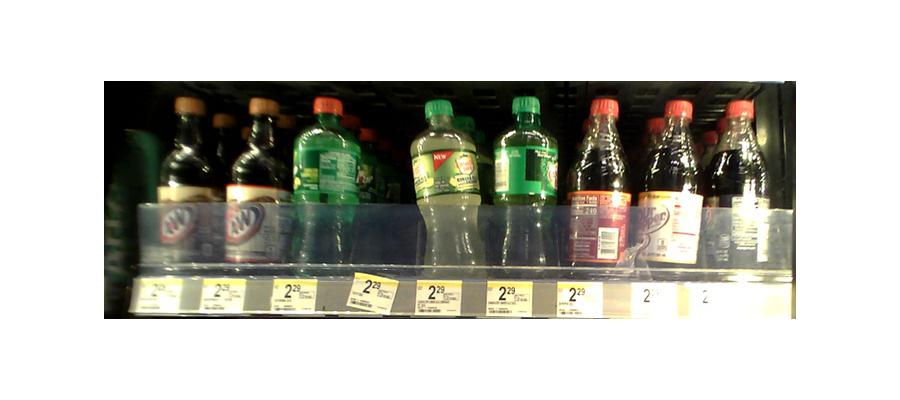bottle: (412, 99, 485, 277), (289, 95, 362, 270), (706, 94, 771, 284), (567, 94, 634, 276), (491, 99, 561, 272), (640, 97, 703, 279), (223, 98, 286, 273), (161, 94, 220, 269)
